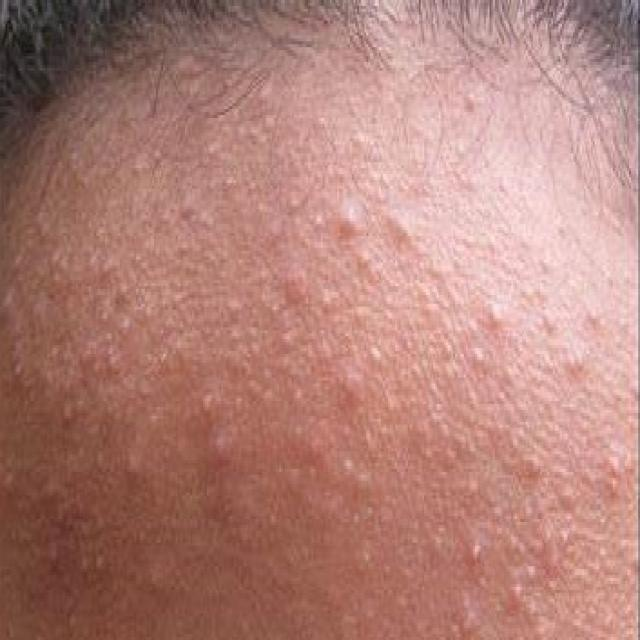fungal: (4, 182, 632, 630)
